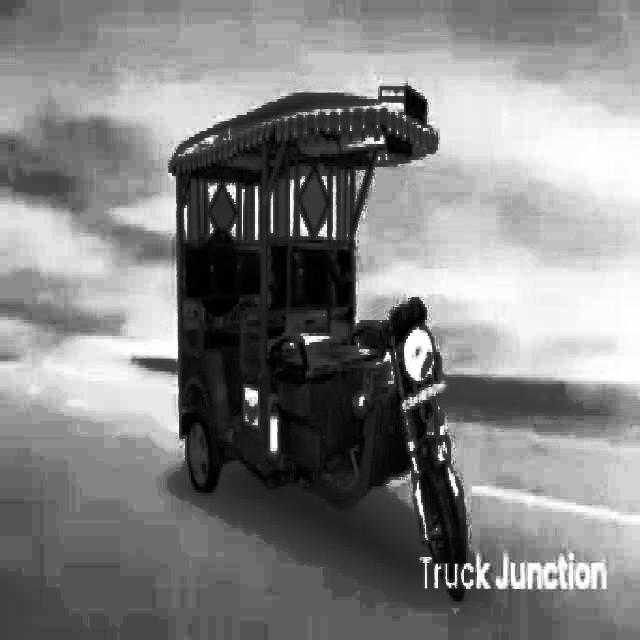Toto: (169, 83, 472, 595)
